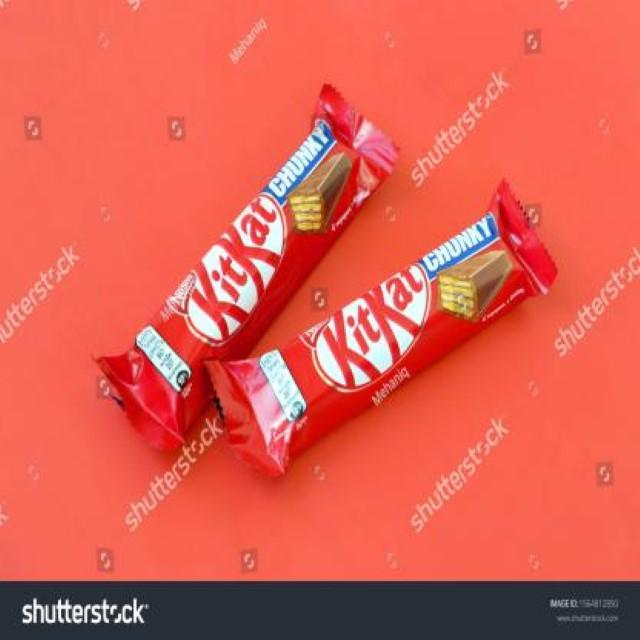kitkat_chocolate: (123, 99, 387, 428), (258, 188, 534, 458)
